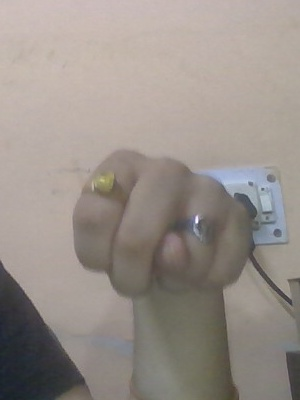N: (66, 142, 255, 309)
